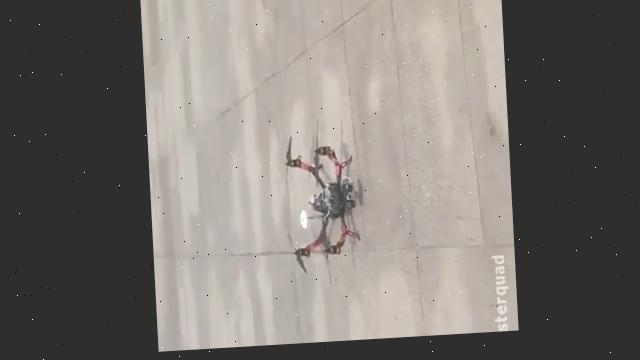drone: (277, 120, 359, 287)
